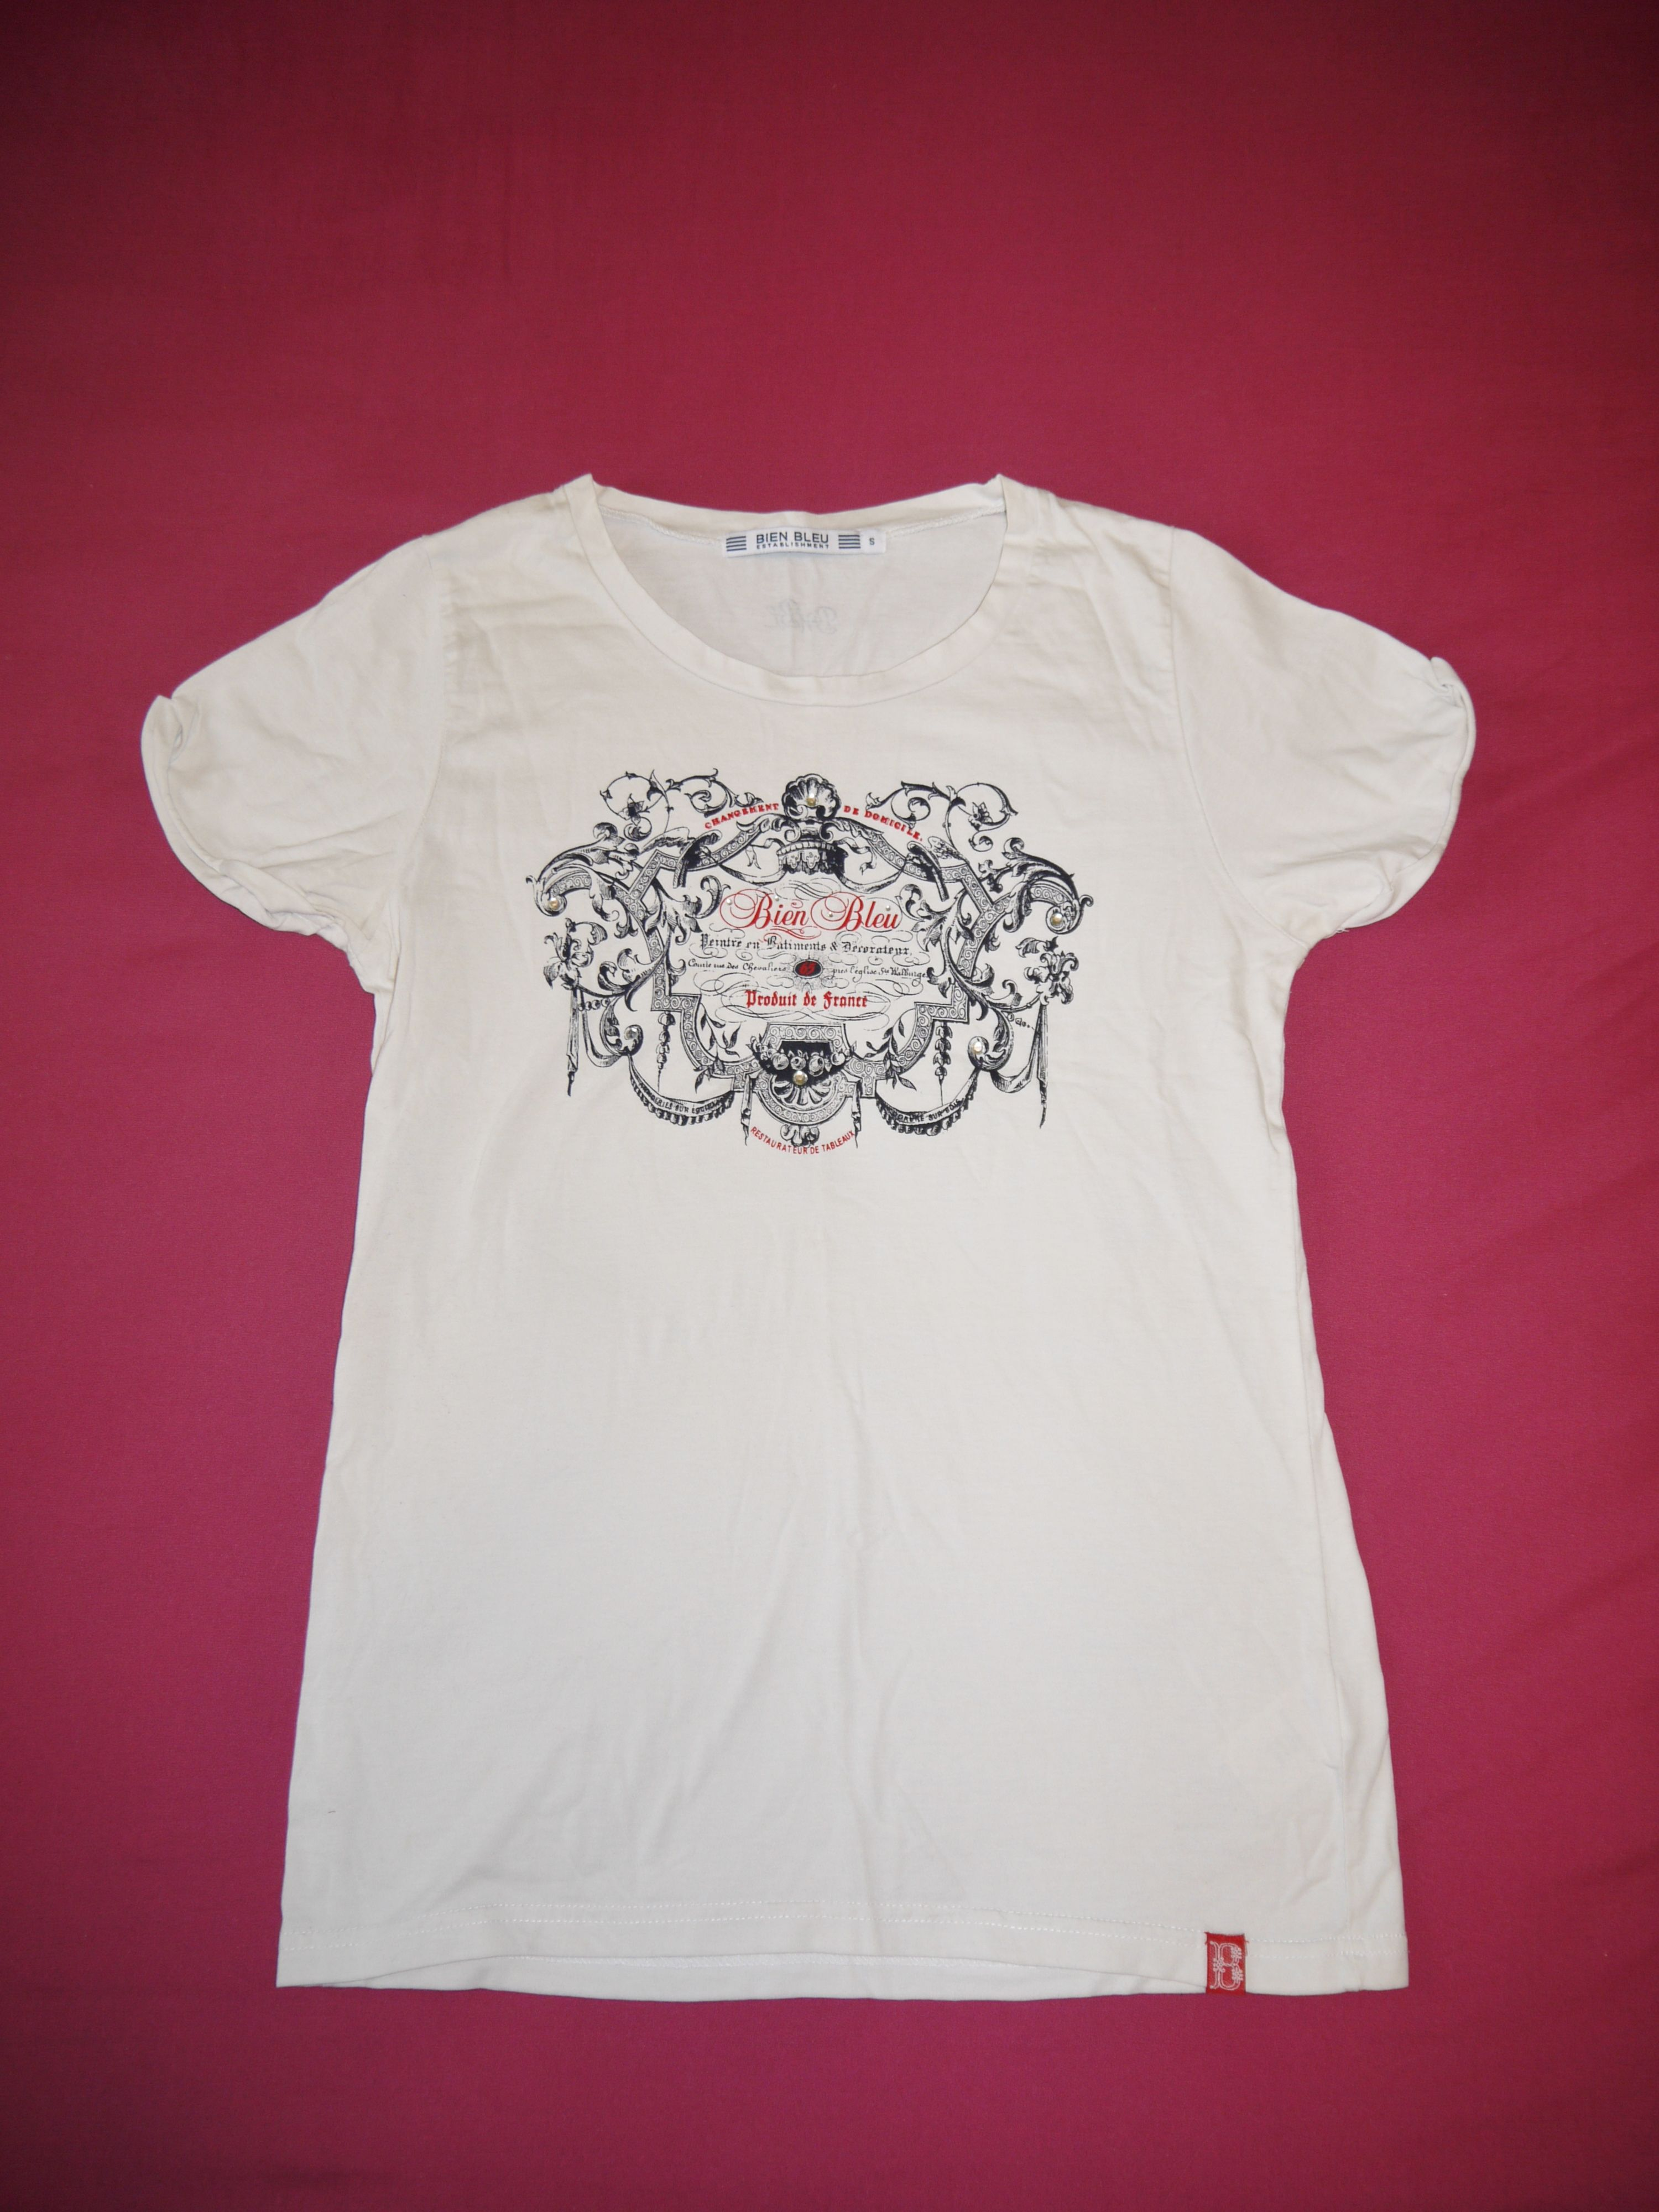clothes: (106, 467, 1473, 2005)
